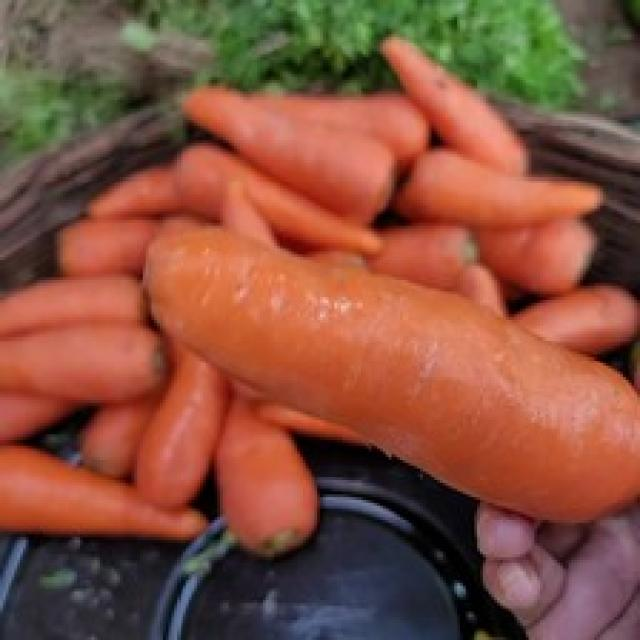Fresh_Carrot: (164, 238, 640, 500), (19, 137, 288, 543), (179, 129, 373, 246), (189, 86, 380, 204), (416, 164, 569, 212), (539, 288, 632, 354)
